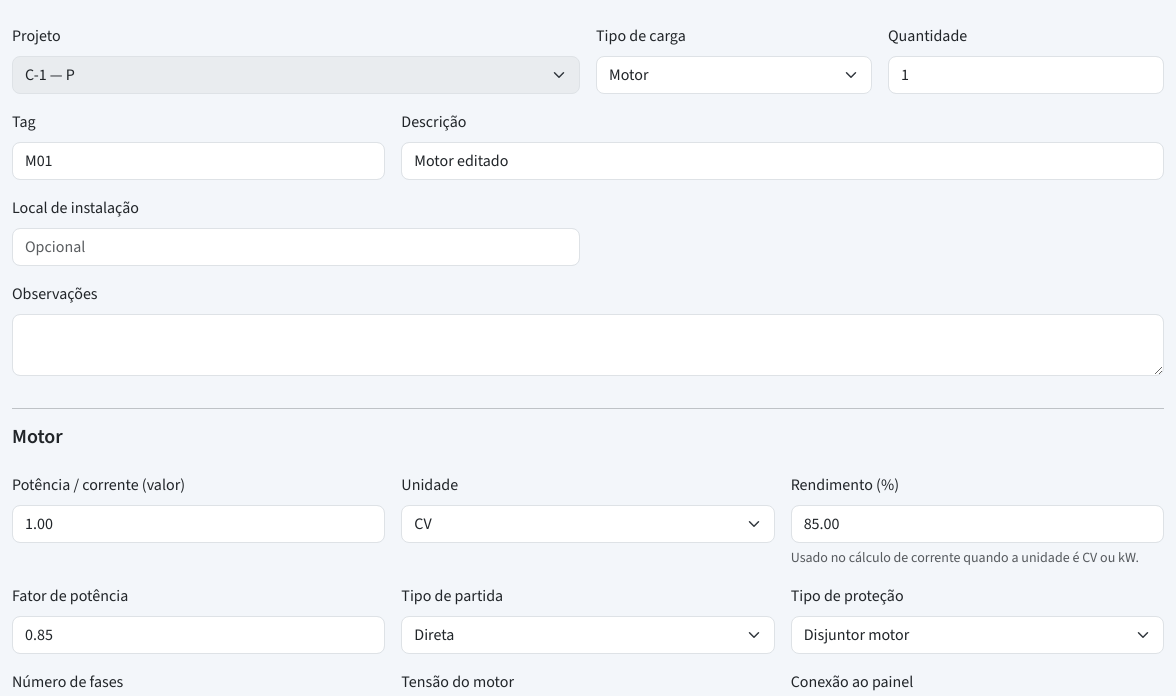
Test: CargaForm › recalcula IO do motor ao alterar tipo de partida na edição
Select "Estrela-Triângulo" in the dropdown below "Tipo de partida" at (588, 635), box [401,616,775,654]
(page scrolled)
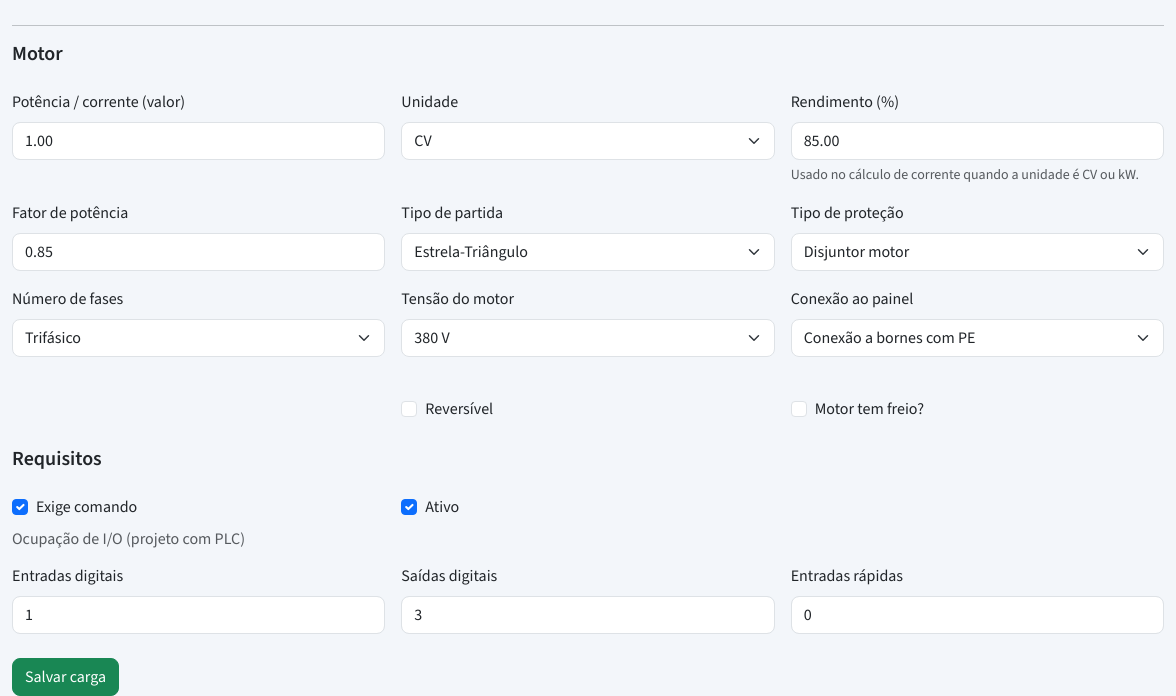
Expected: the number field labelled "Saídas digitais" holds "3", [401,596,775,634]
